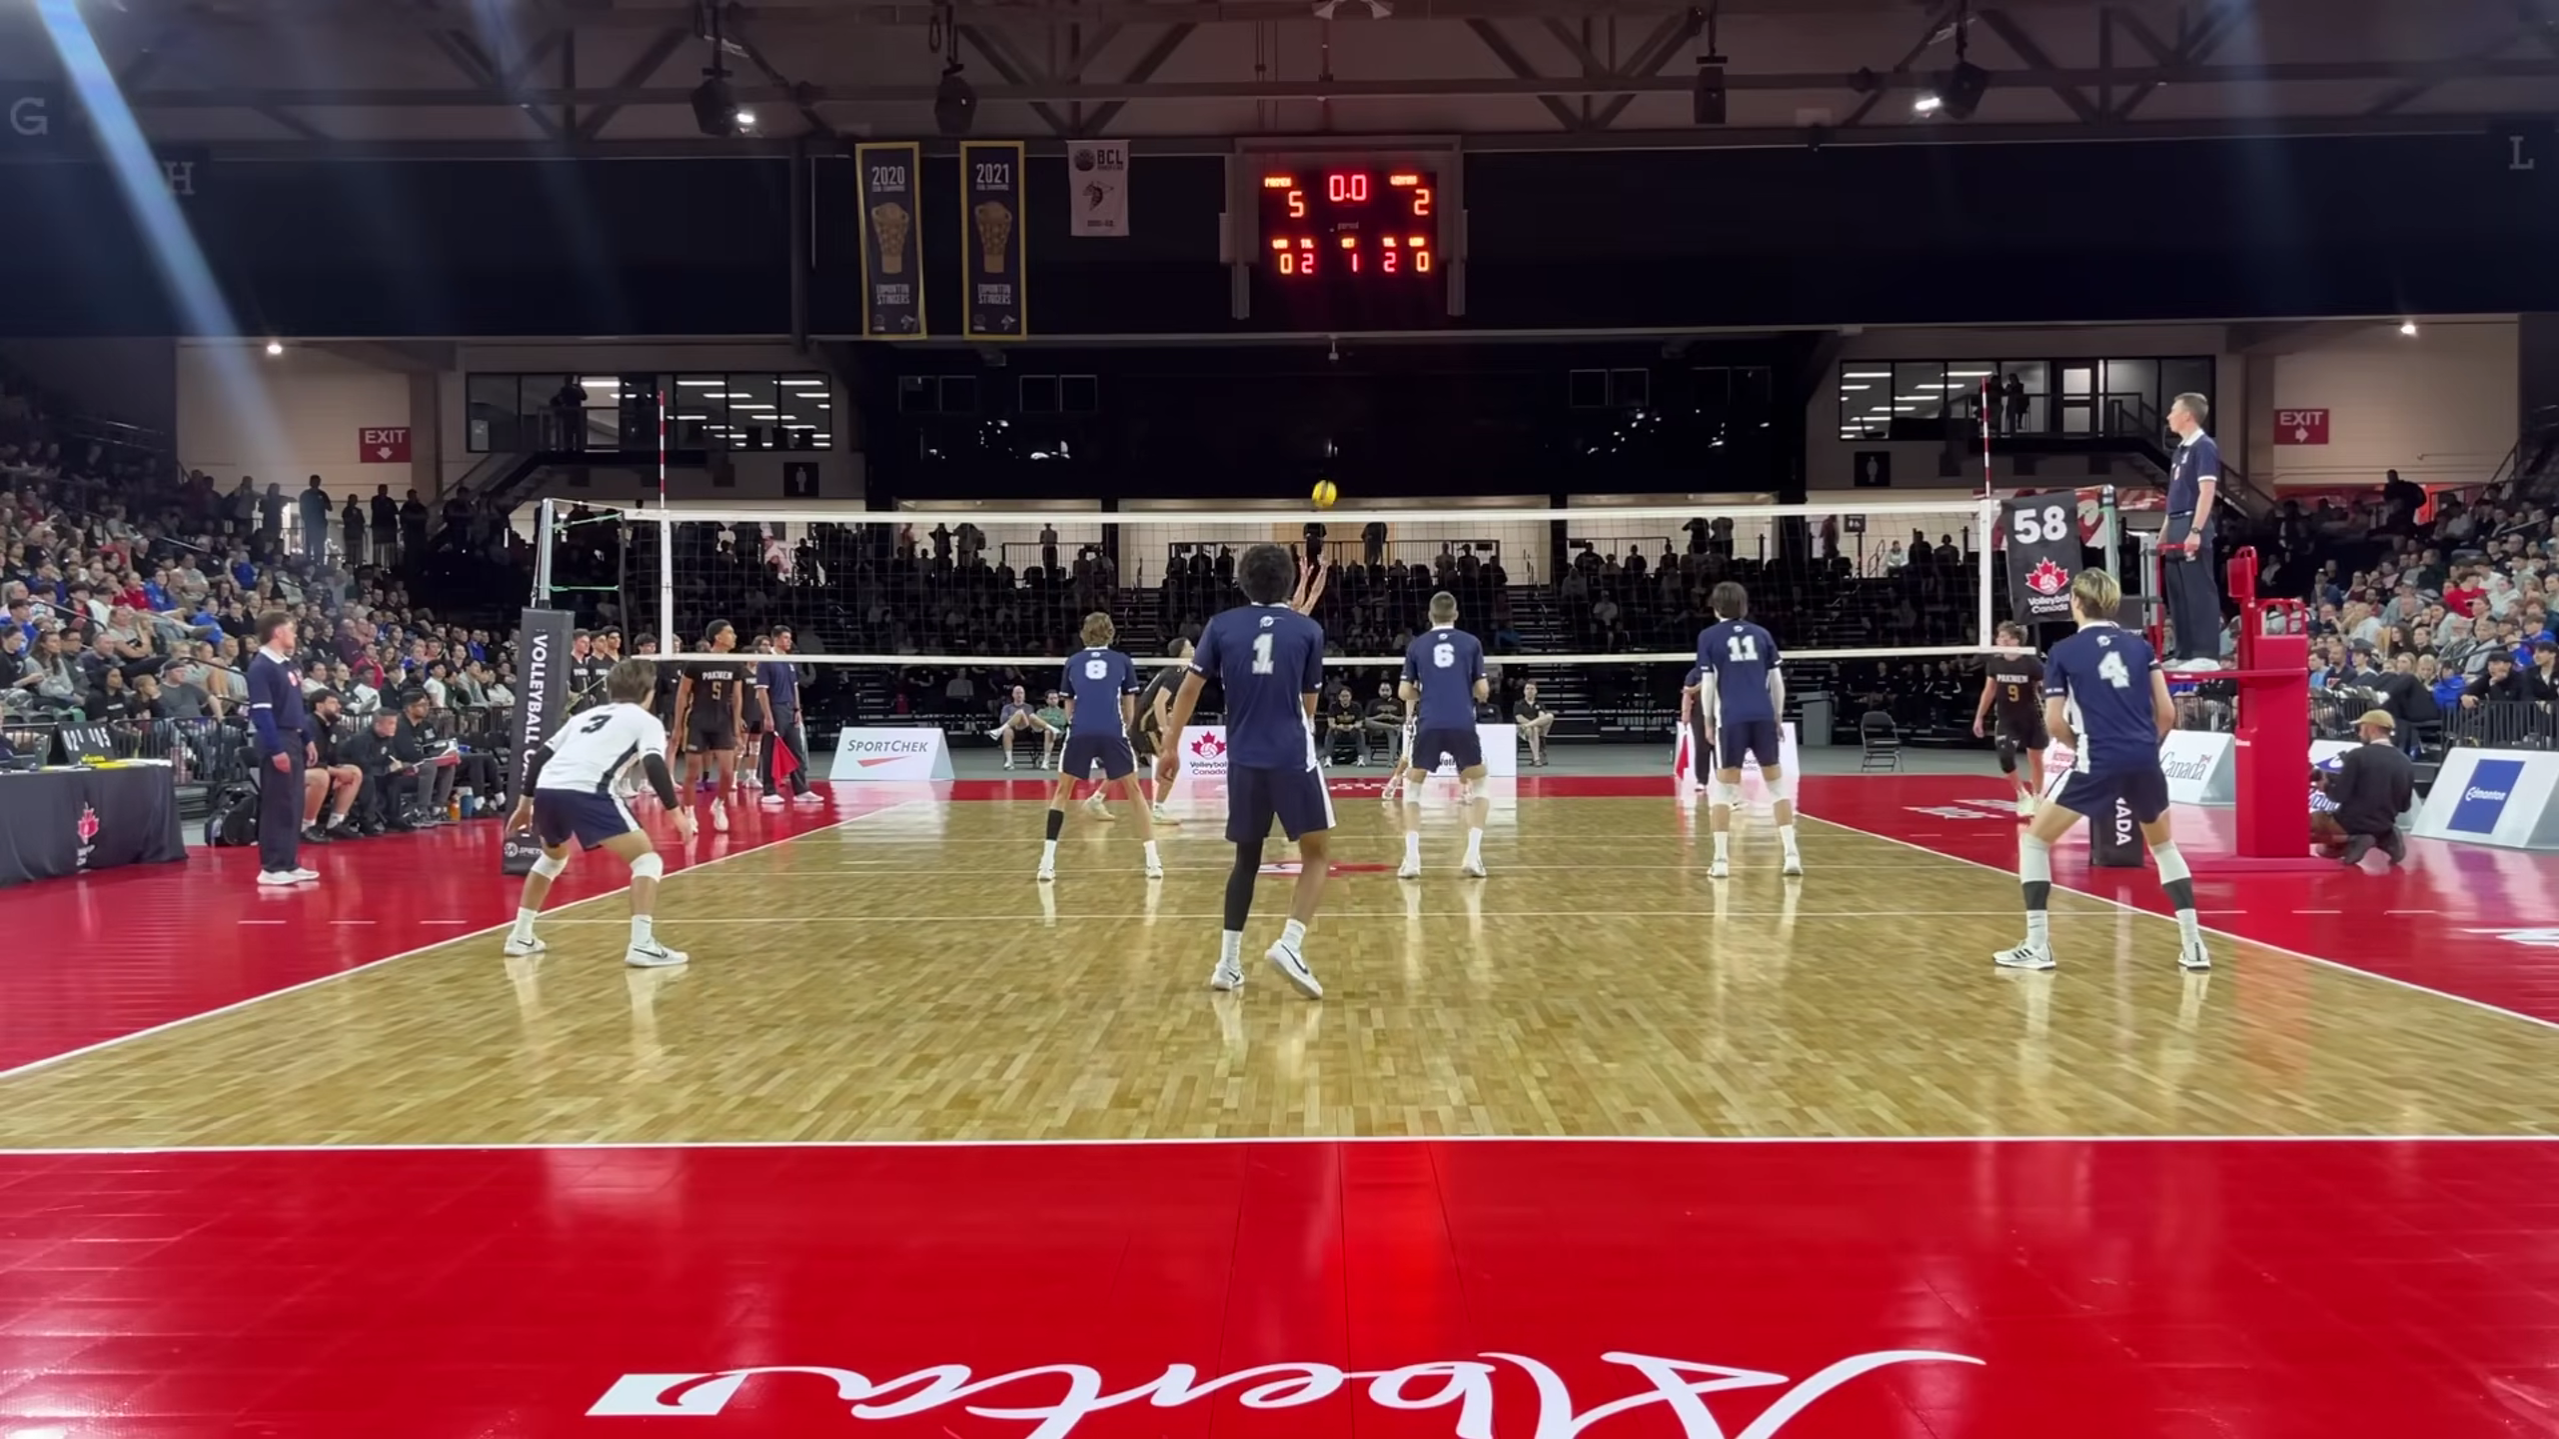Ball: (1311, 480, 1337, 510)
